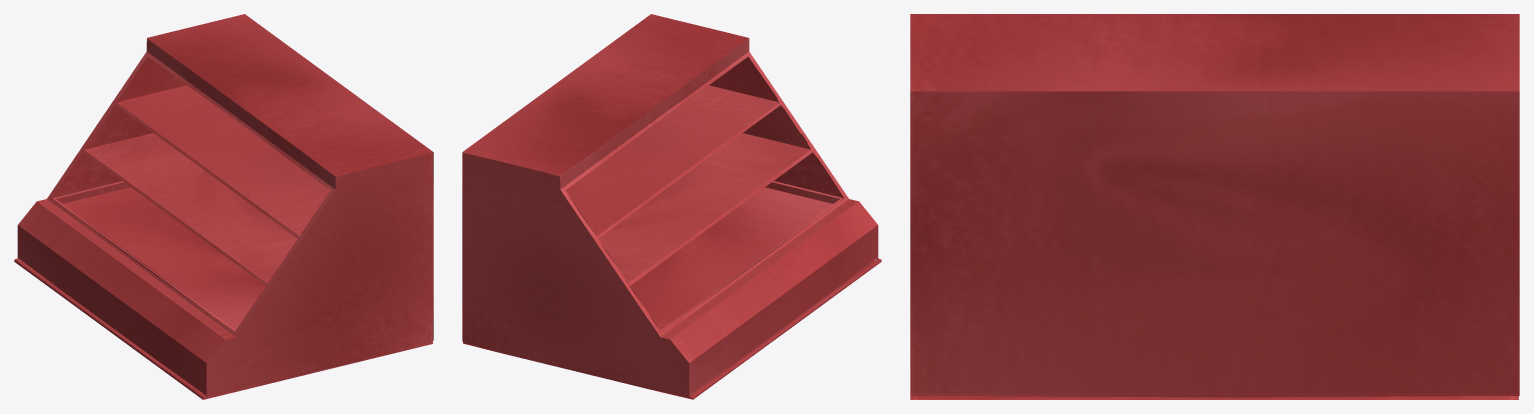
File: produceShelf_2.fbx
3 renders of one model, left to right at view 1: azimuth 30°, elevation 25°; view 2: azimuth 150°, elevation 25°; view 3: azimuth 270°, elevation 25°, orthographic. The views are drawn at different scales.
Visible parts, largest first — view 1: produce_LOD0; view 2: produce_LOD0; view 3: produce_LOD0.
Boxes of the visible parts, x1,y1,x2,y2 form: produce_LOD0: (14, 14, 433, 399); produce_LOD0: (462, 14, 881, 399); produce_LOD0: (910, 14, 1519, 399).
Bounding box in the file's own units: 6.29 × 4.43 × 3.52.
